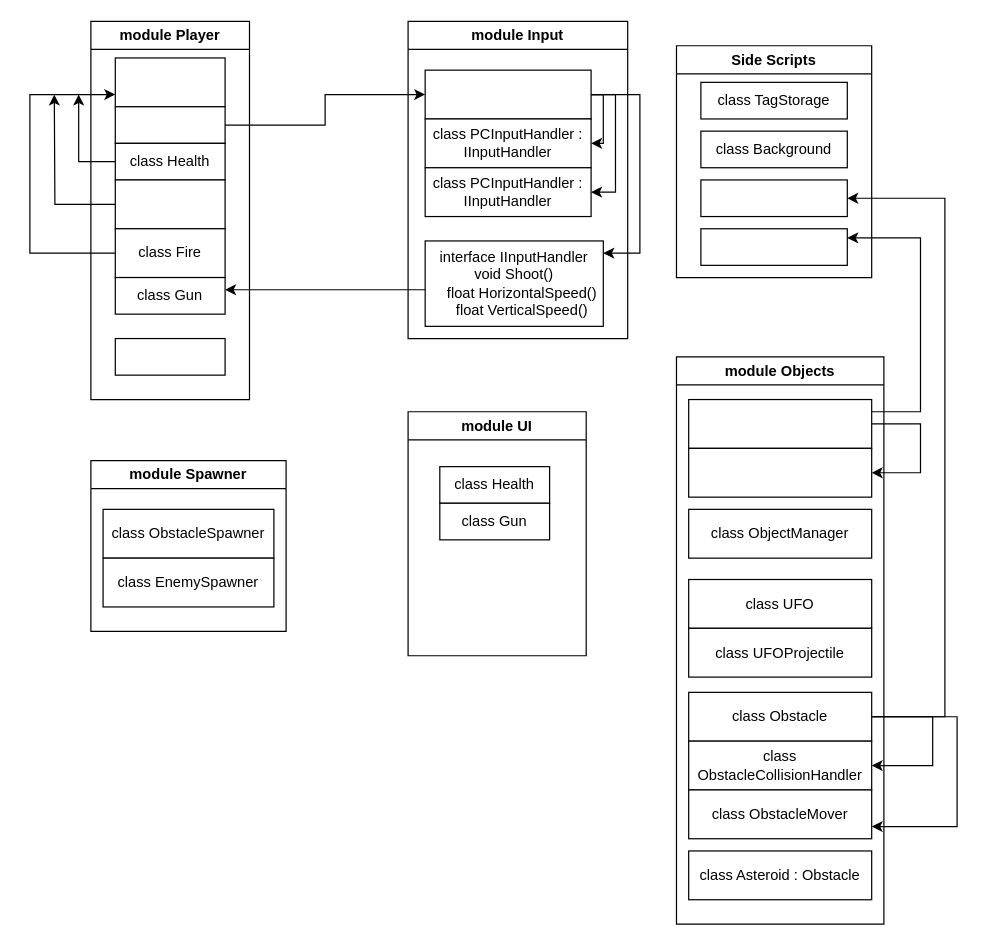
The diagram is 988 pixels wide and 946 high, and some of its shapes have lost their labels. Each missing label, with the centre of its shape:
class Bomb: (x=169, y=356)
class Fuel: (x=169, y=204)
class InputManager: (x=507, y=94)
class Movement: (x=169, y=124)
class Player void KillPlayer(): (x=169, y=82)
class Pool: (x=773, y=246)
class PoolableObject: (x=779, y=472)
class PoolManager: (x=779, y=423)
class Rotator: (x=773, y=198)
